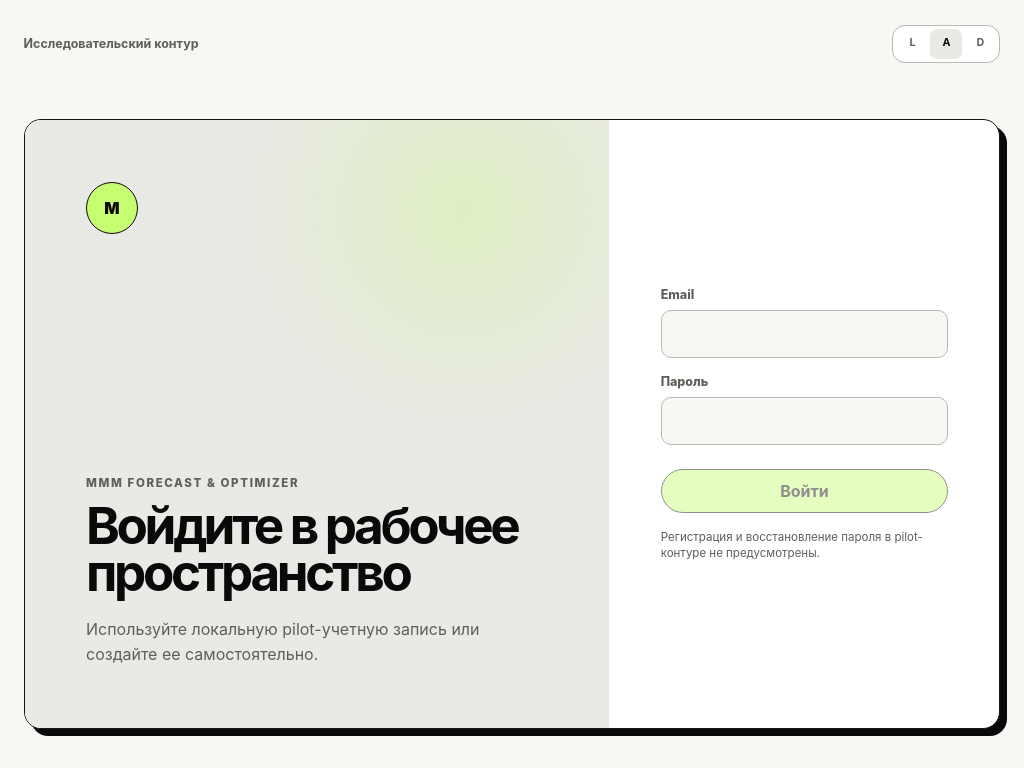
Test: LoginView › clears only the password and focuses generic feedback after a 401
In the field labelled "Email": (804, 334) [661,310,948,358], type "user@example.org"
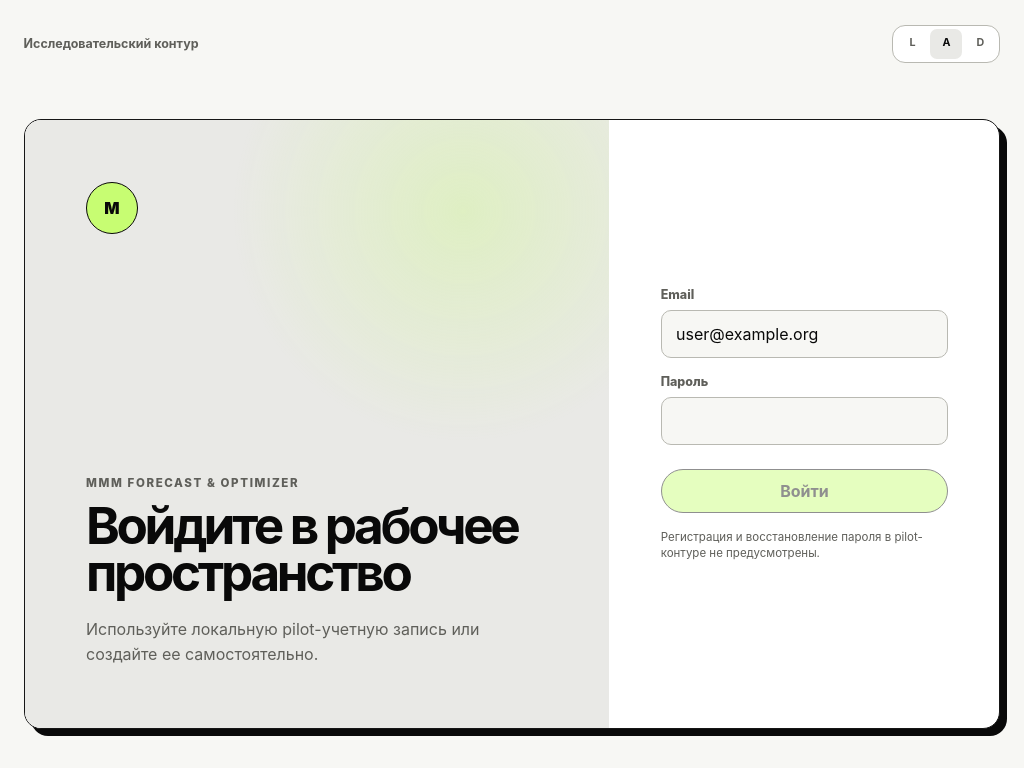
In the password field labelled "Пароль": (804, 421) [661,397,948,445], type "Pilot-password-2026"
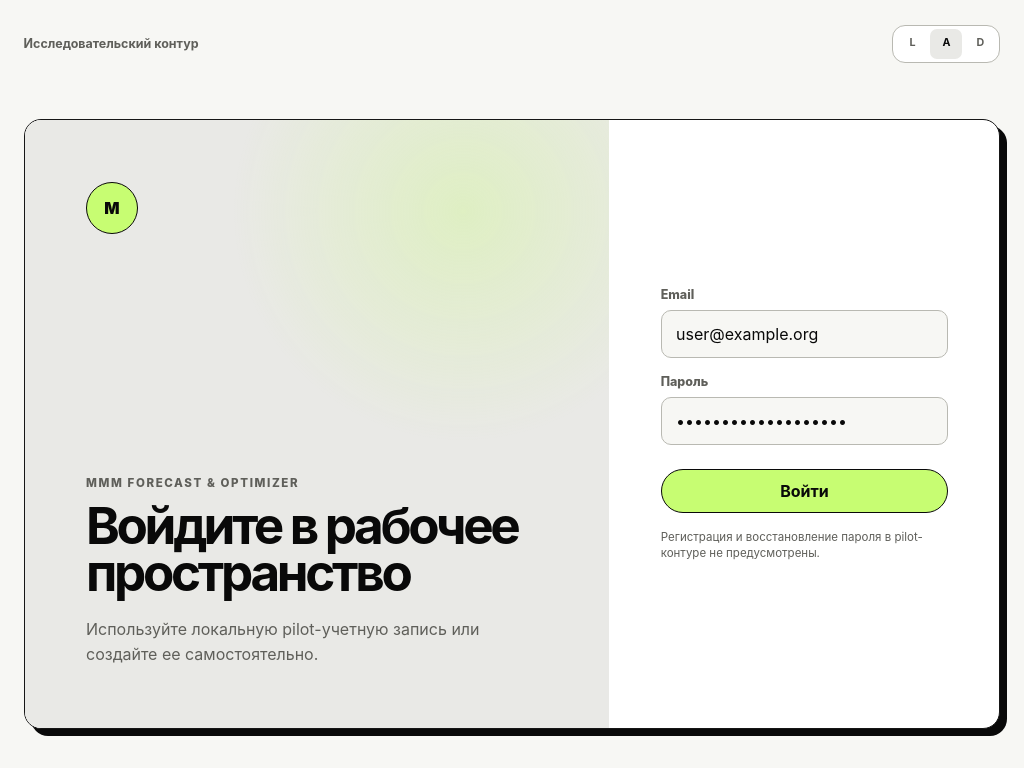
Submit the form "Войти", box [661,287,948,560]
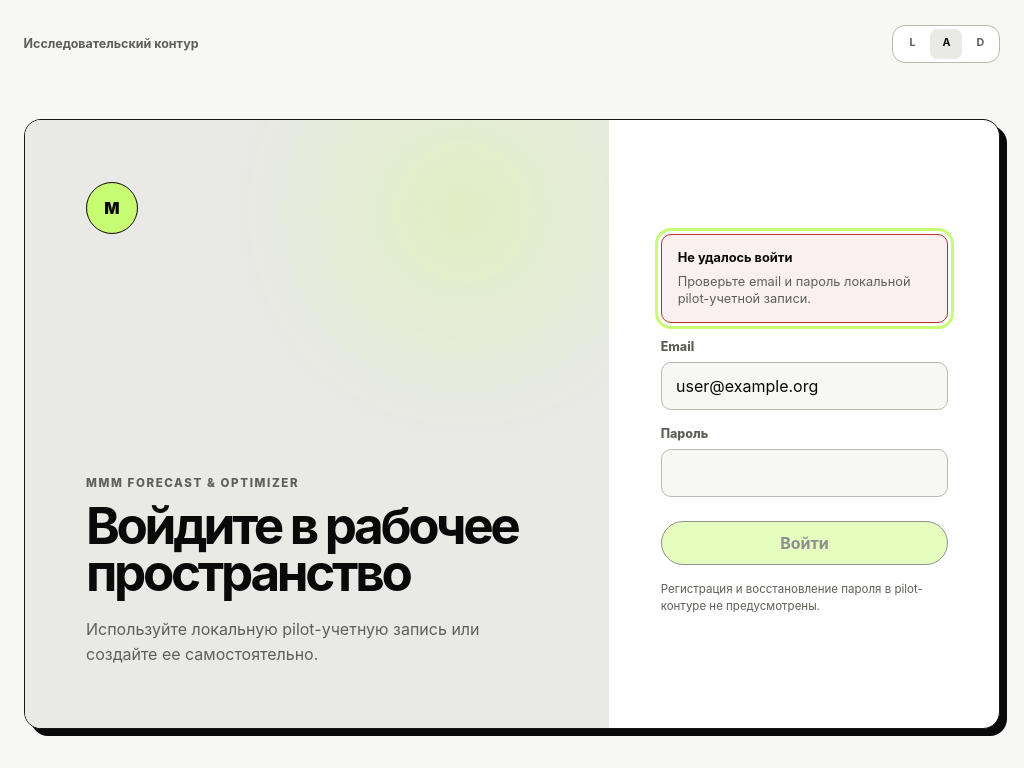
Expected: the message does not show "RAW_ACCOUNT_DETAIL", [661,234,948,323]
Expected: the message shows "Не удалось войти", [678,250,792,265]
Expected: the password field labelled "Пароль" is empty, [661,449,948,497]
